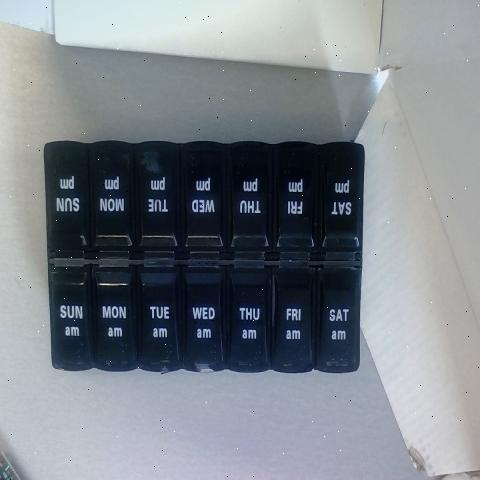FRI-am: (274, 253, 318, 368)
FRI-pm: (274, 145, 316, 254)
MON-am: (93, 251, 137, 367)
MON-pm: (90, 140, 132, 253)
SAT-am: (316, 276, 360, 368)
SAT-pm: (321, 148, 361, 255)
SUN-am: (54, 264, 93, 370)
SUN-pm: (45, 139, 87, 253)
THU-am: (232, 253, 276, 366)
THU-pm: (229, 142, 271, 252)
TUE-am: (137, 143, 181, 258)
TUE-pm: (137, 258, 181, 367)
WED-am: (181, 256, 227, 368)
WED-pm: (184, 144, 224, 250)
